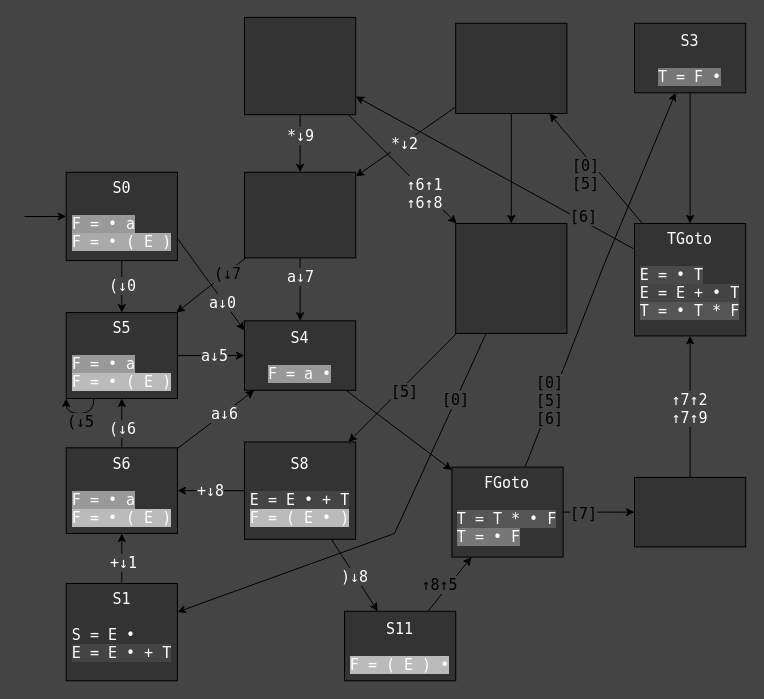
The diagram is 764 pixels wide and 699 high, and some of its shapes have lost their labels. Here are the shapes that lost their labels. From the top down, the centre of each, then its label:
the point at 300,65: S9 E = E + T • T = T • * F
the point at 511,68: S2 E = T • T = T • * F
the point at 300,214: S7 F = • a F = • ( E )
the point at 511,278: EGoto S = • E E = • E + T F = ( • E )
the point at 690,511: S10 T = T * F •
